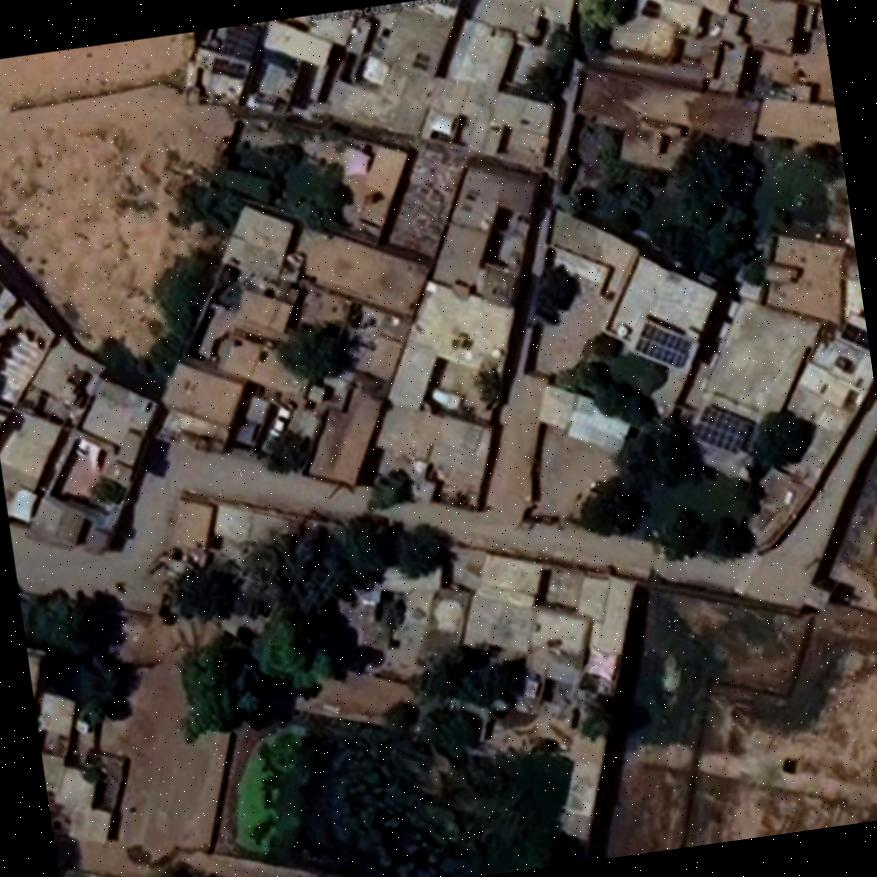Solarpanel: (696, 407, 752, 451), (635, 323, 691, 365), (217, 26, 258, 59), (840, 321, 869, 353)
